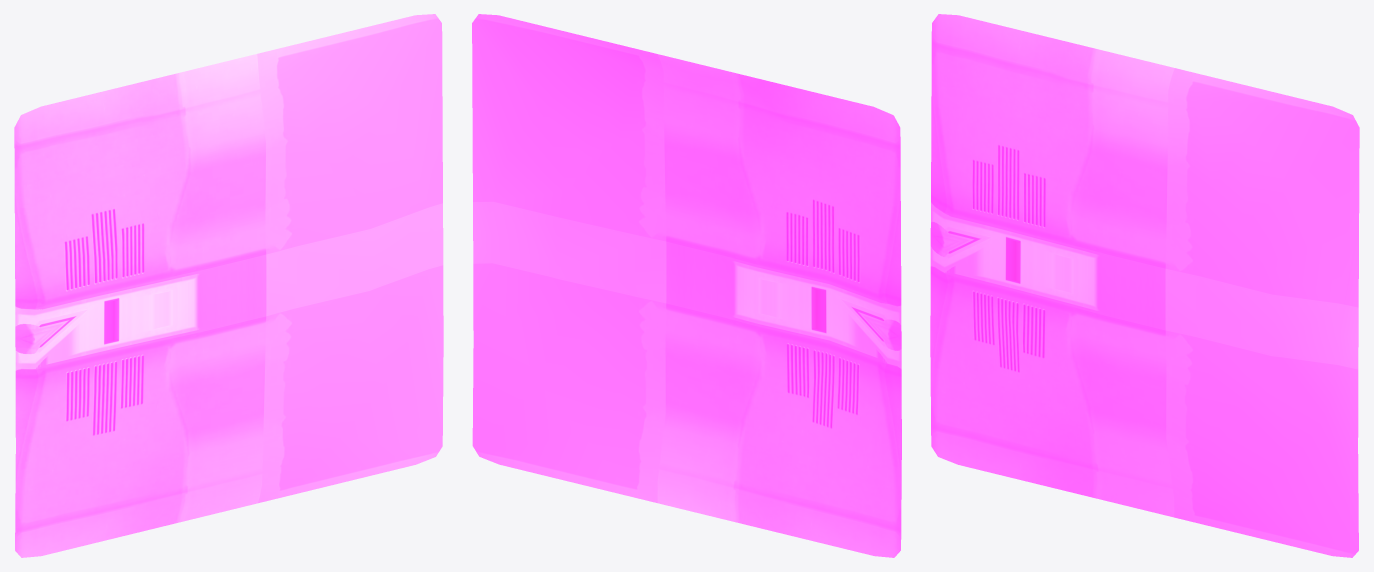
The model's file is pm-computer-screen.glb.
3 renders of one model, left to right at view 1: azimuth 30°, elevation 25°; view 2: azimuth 150°, elevation 25°; view 3: azimuth 330°, elevation 25°, orthographic.
Parts seen in each view (by area): view 1: Computer_Screen; view 2: Computer_Screen; view 3: Computer_Screen.
Boxes of the visible parts, left/top/right/bottom form: Computer_Screen: left=14, top=14, right=443, bottom=557; Computer_Screen: left=472, top=14, right=901, bottom=557; Computer_Screen: left=930, top=14, right=1359, bottom=557.
Bounding box in the file's own units: 7.41 × 7.44 × 0.2769.
Materials: 1 (1 with a texture image).
